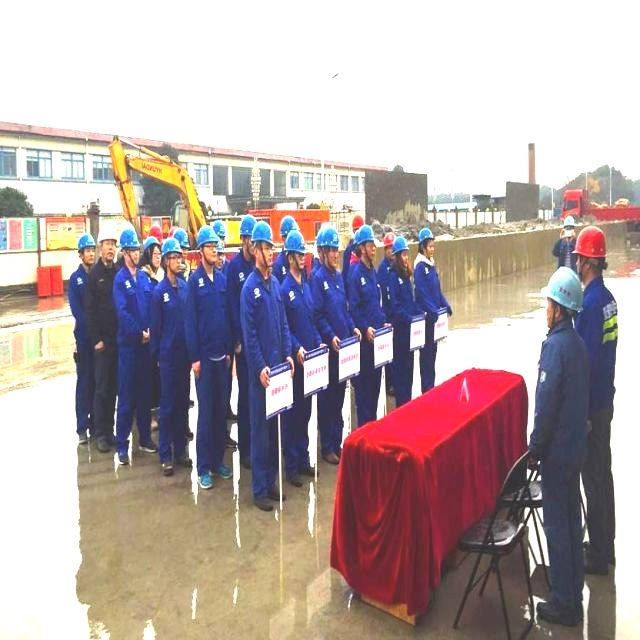Con_Casco: (574, 226, 606, 278), (251, 221, 273, 268), (419, 227, 435, 254)
